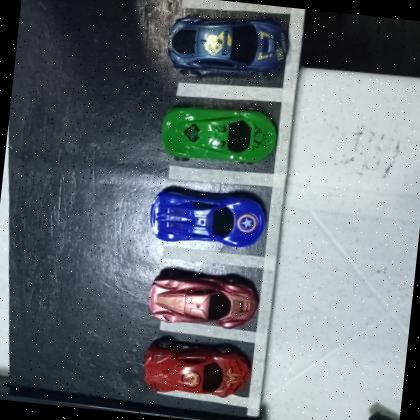Car: (162, 7, 291, 87), (157, 98, 281, 170), (146, 182, 271, 252), (140, 332, 253, 402), (146, 267, 260, 333)
